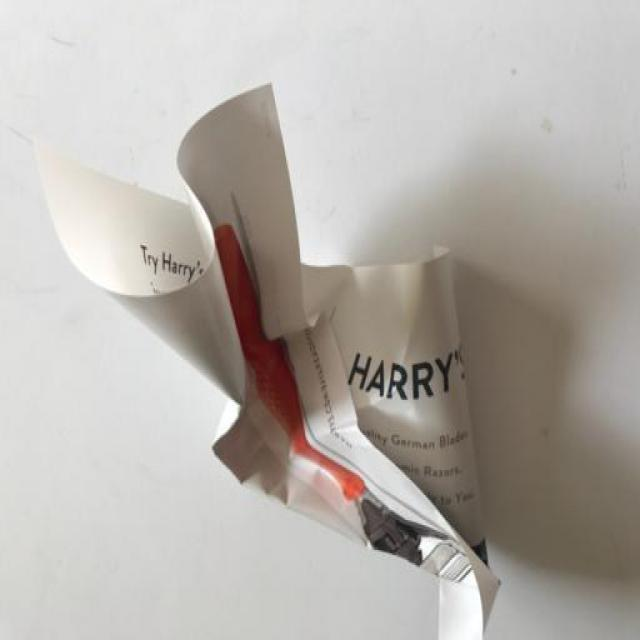paper: (51, 89, 532, 640)
